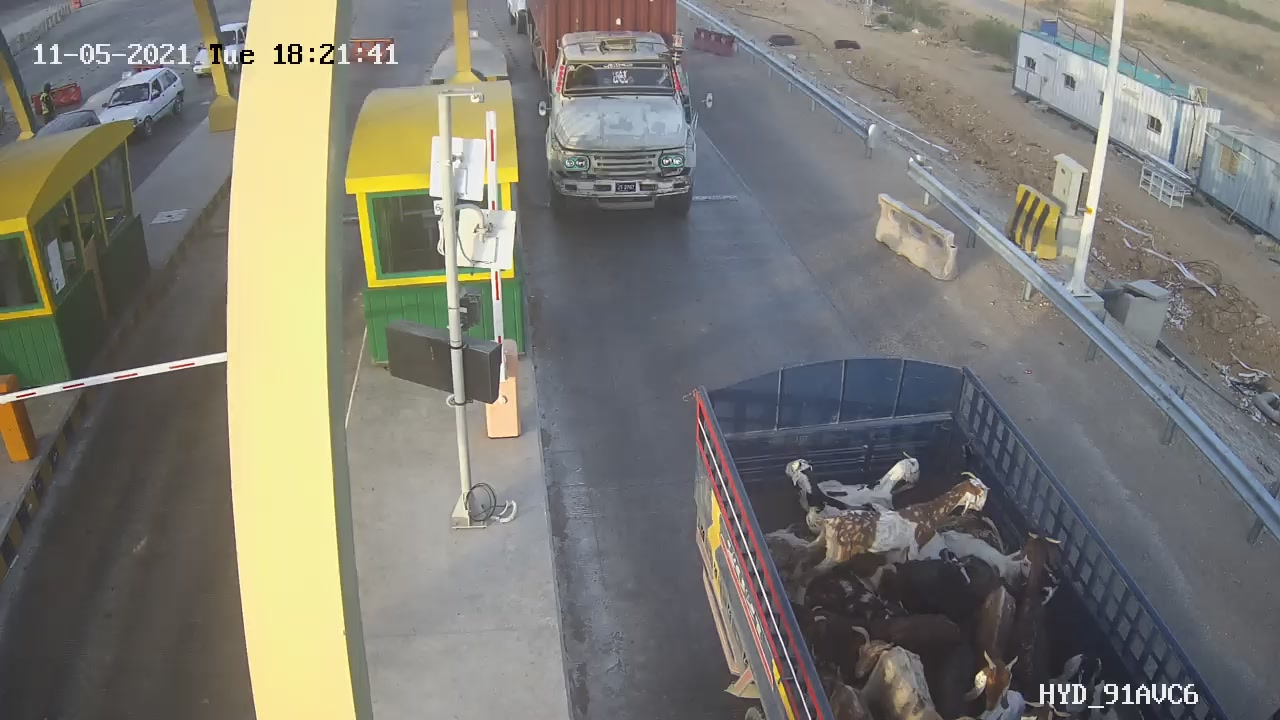F6: (528, 1, 714, 215)
